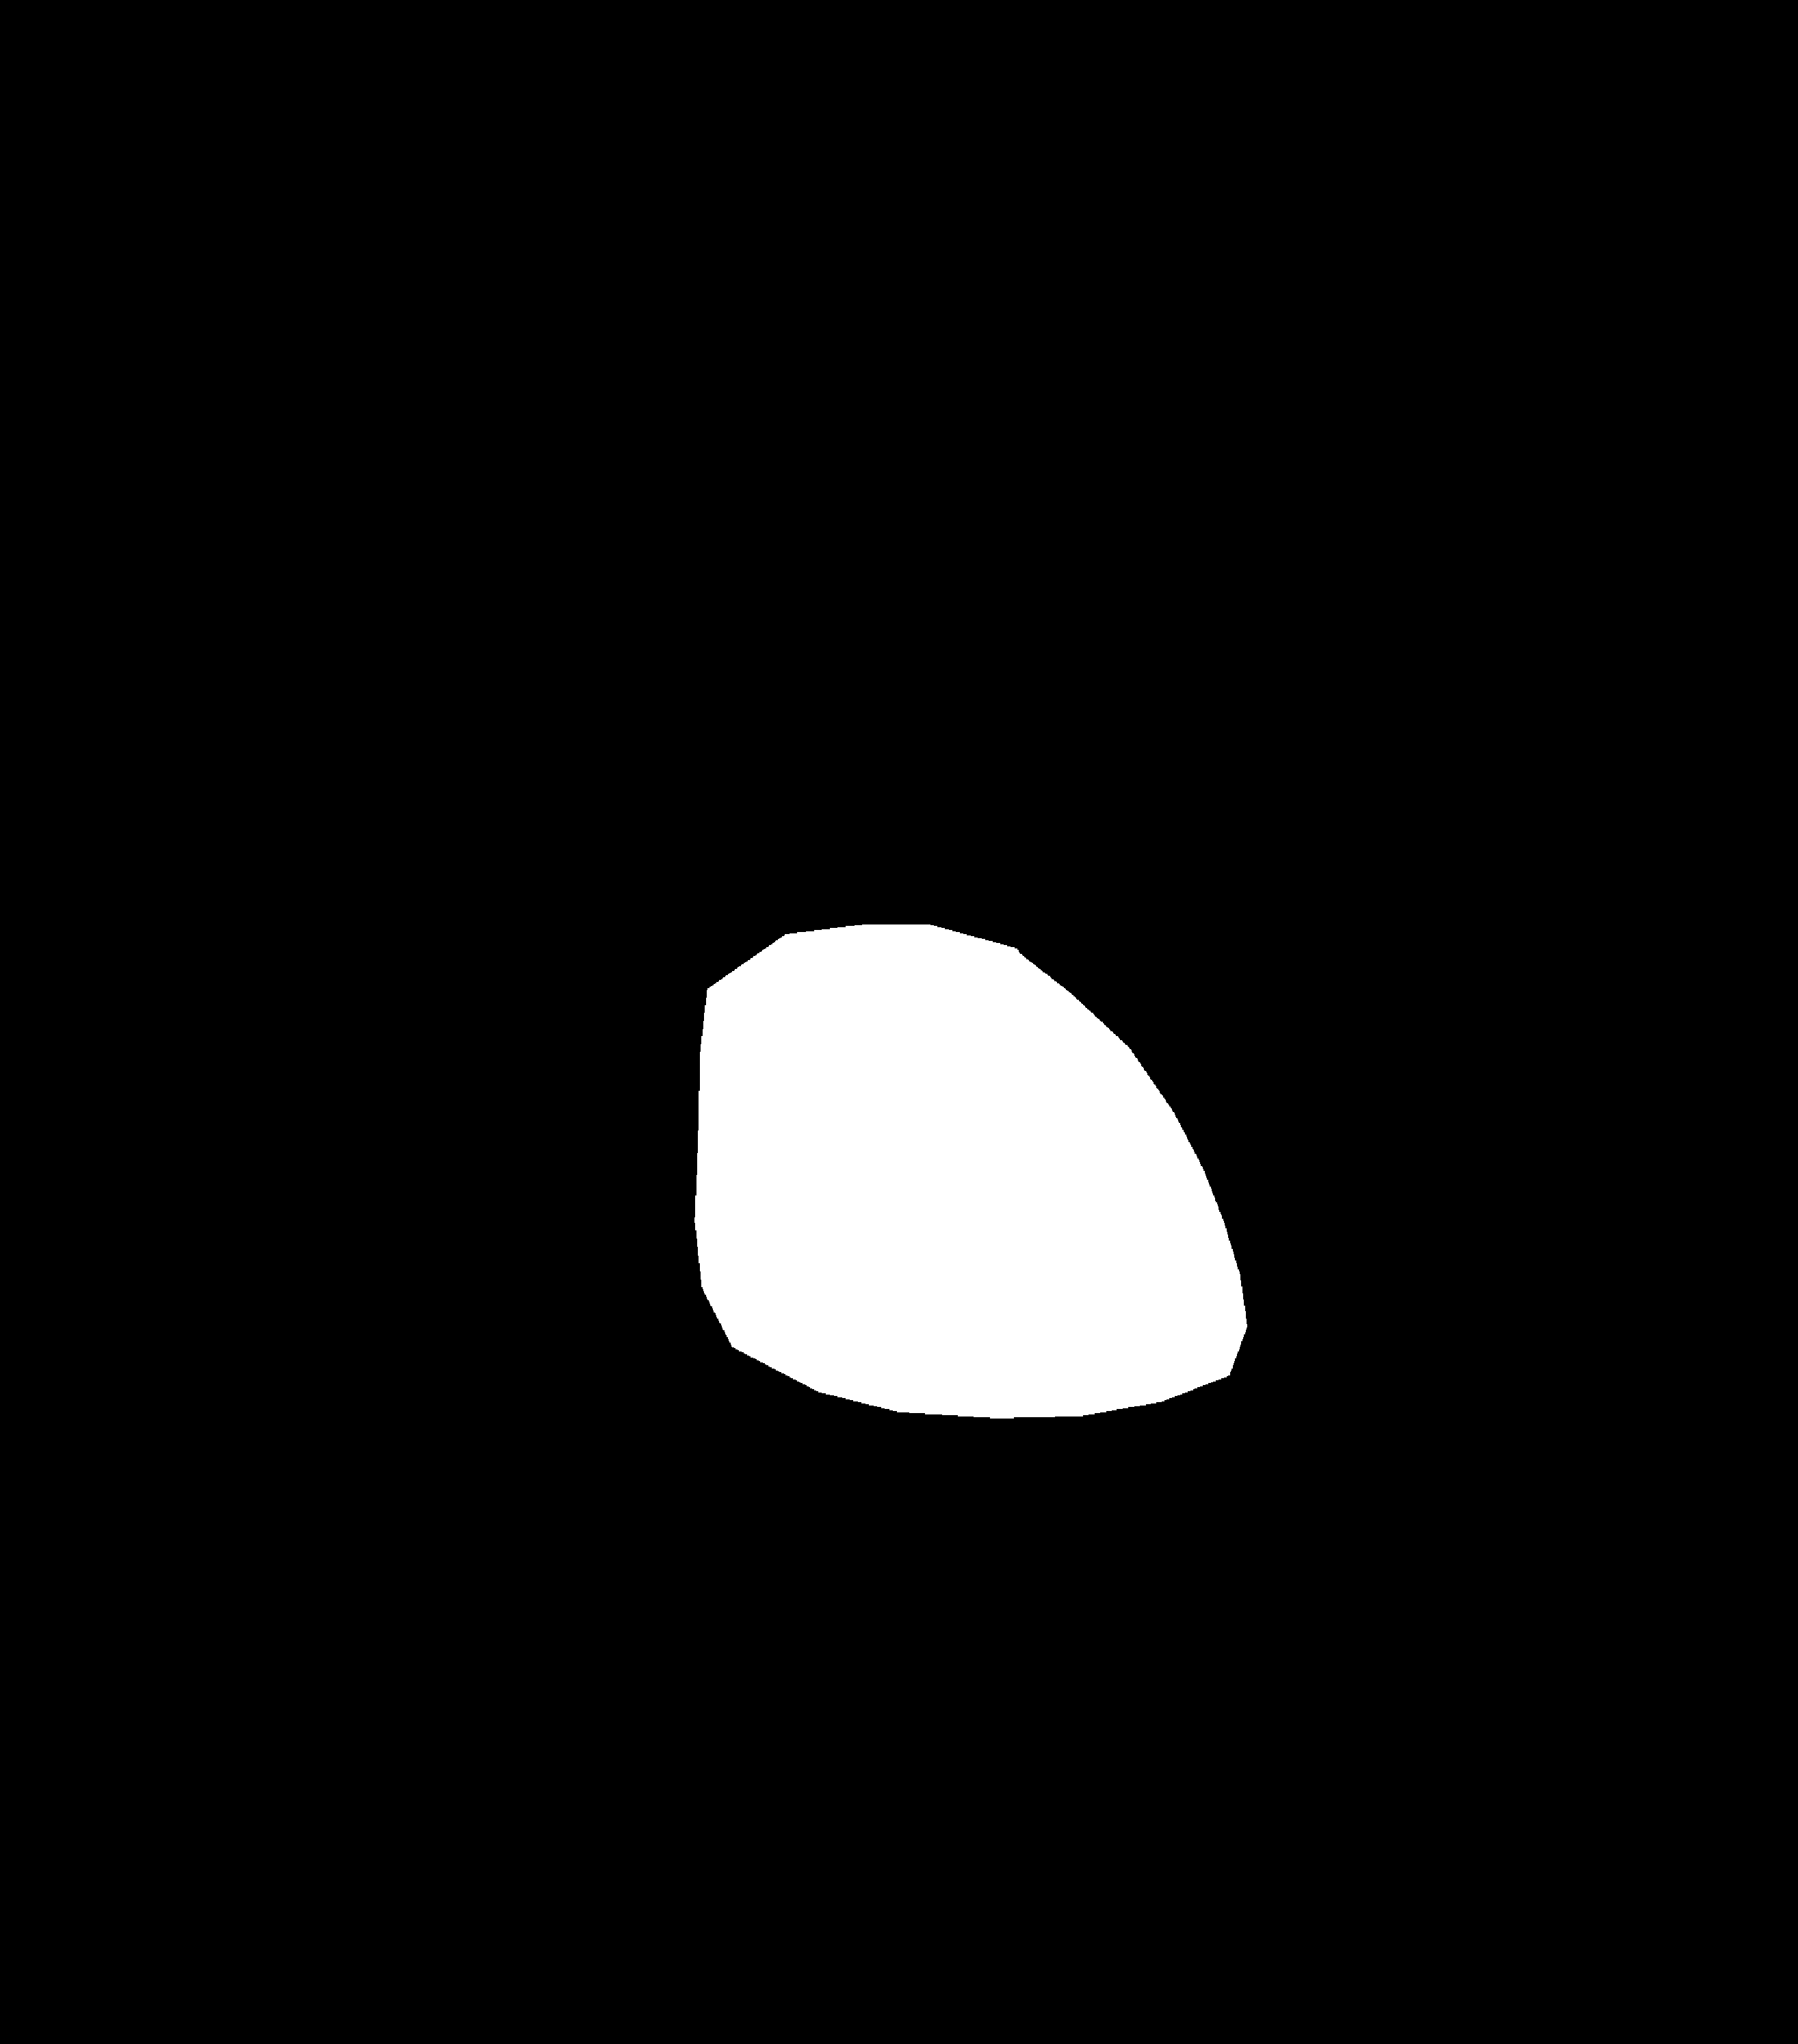heart: (698, 926, 1244, 1448)
left_lung: (254, 275, 780, 1519)
right_lung: (978, 264, 1527, 1533)
